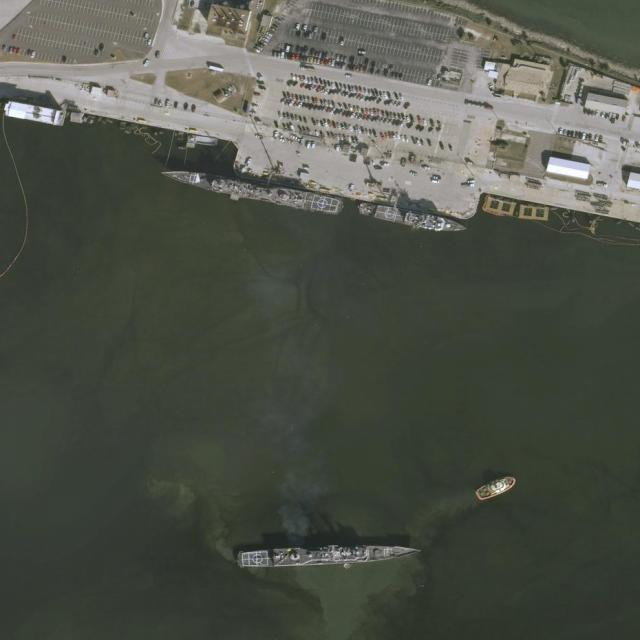Frigate: (158, 165, 342, 215), (237, 542, 421, 568), (357, 200, 469, 237)
Hovercraft: (473, 471, 518, 502)
Other Ship: (188, 135, 220, 147)
